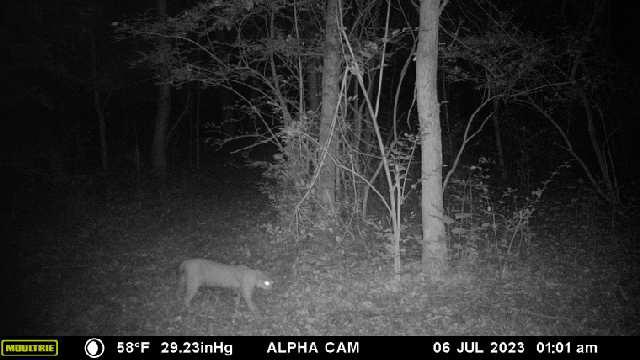Bobcat: (174, 255, 274, 313)
